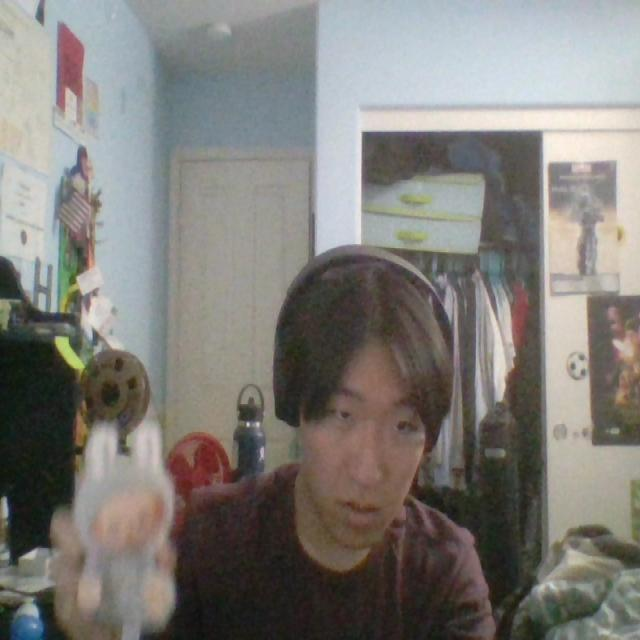labubu: (51, 420, 175, 639)
